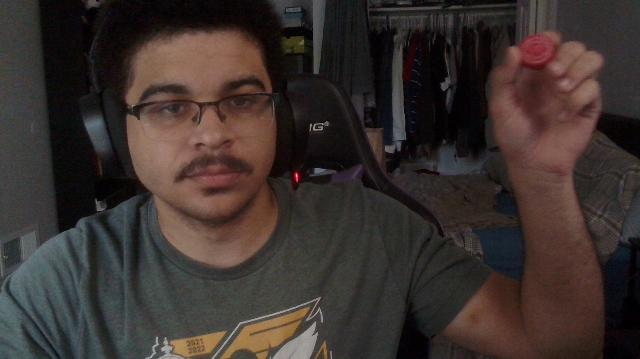cap: (520, 34, 556, 70)
